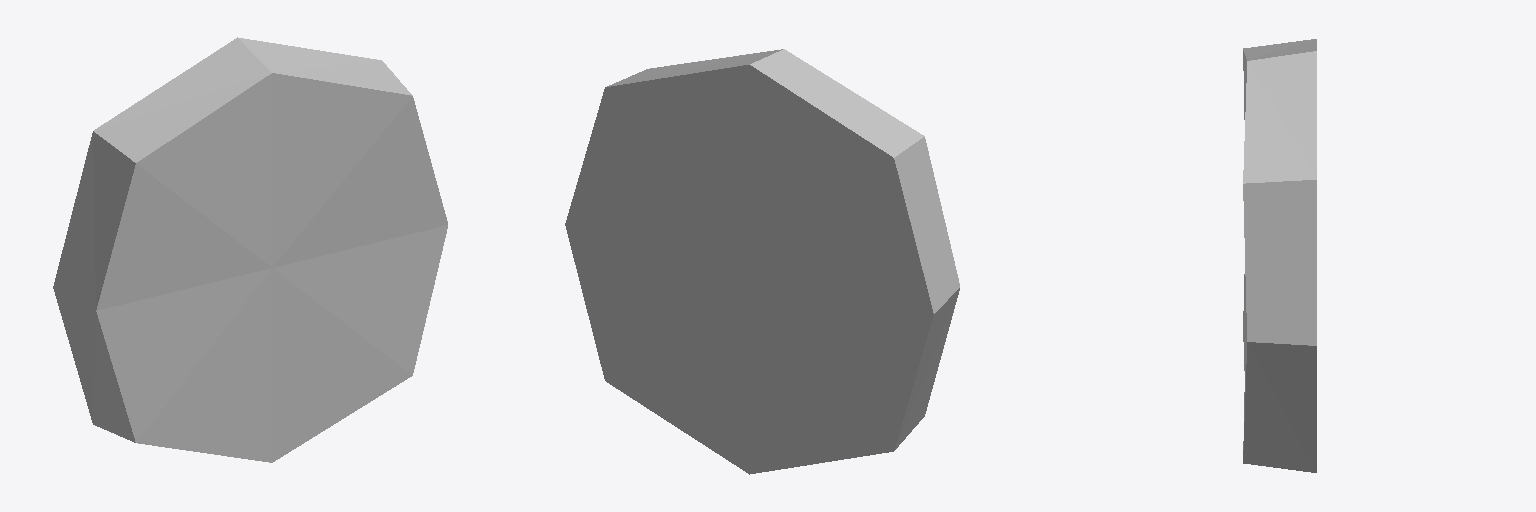
The model's file is chopped_sphere_slice_01.obj.
3 renders of one model, left to right at view 1: azimuth 30°, elevation 25°; view 2: azimuth 150°, elevation 25°; view 3: azimuth 270°, elevation 25°, orthographic.
Visible parts, largest first — view 1: fully_chopped.001_Cube.005; view 2: fully_chopped.001_Cube.005; view 3: fully_chopped.001_Cube.005.
Part boxes in pixels (x1,y1,x2,y2): fully_chopped.001_Cube.005: (53,37,447,462); fully_chopped.001_Cube.005: (565,49,959,474); fully_chopped.001_Cube.005: (1243,39,1316,472).
Bounding box in the file's own units: 1.88 × 2 × 0.3268.